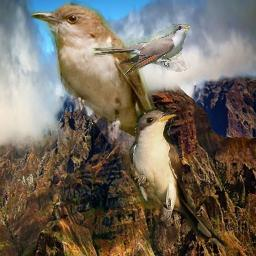Cuckoo: (28, 0, 177, 214), (129, 109, 230, 254), (91, 24, 190, 75)
